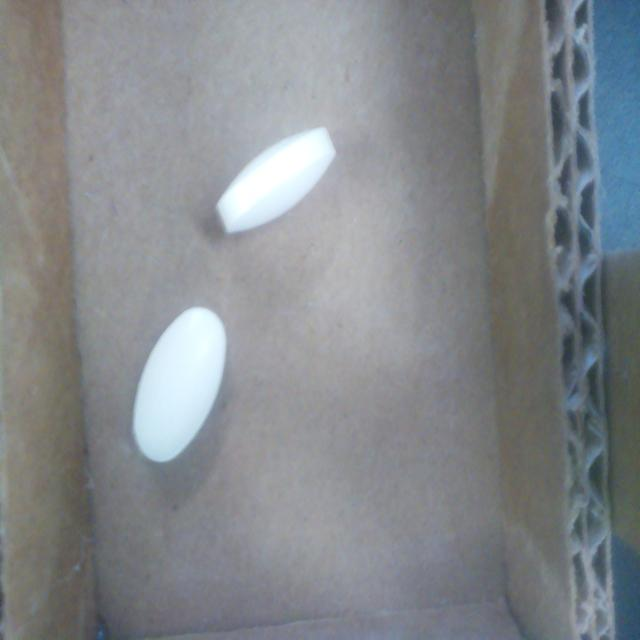pill: (132, 307, 226, 463), (215, 126, 337, 234)
